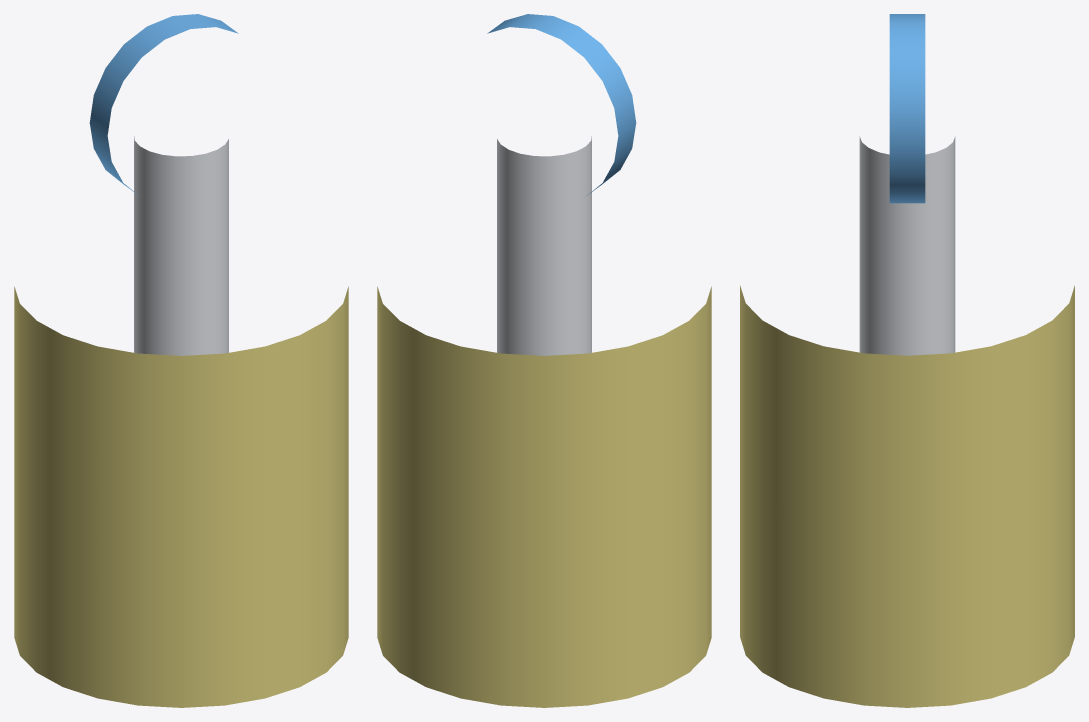
The model's file is california_bearing_ratio_cbr.glb.
3 views of the same model, side by side, from view 1: azimuth 30°, elevation 25°; view 2: azimuth 150°, elevation 25°; view 3: azimuth 270°, elevation 25° (orthographic).
Parts seen in each view (by area): view 1: CBRStandardMouldWithCollar, Standard50mmPenetrationPiston, ProvingRingDialGaugeAssembly; view 2: CBRStandardMouldWithCollar, Standard50mmPenetrationPiston, ProvingRingDialGaugeAssembly; view 3: CBRStandardMouldWithCollar, Standard50mmPenetrationPiston, ProvingRingDialGaugeAssembly.
Part boxes in pixels (x1=…): CBRStandardMouldWithCollar: x1=14, y1=286, x2=348, y2=707; Standard50mmPenetrationPiston: x1=134, y1=136, x2=228, y2=355; ProvingRingDialGaugeAssembly: x1=89, y1=14, x2=238, y2=195; CBRStandardMouldWithCollar: x1=377, y1=286, x2=711, y2=707; Standard50mmPenetrationPiston: x1=497, y1=136, x2=591, y2=355; ProvingRingDialGaugeAssembly: x1=487, y1=14, x2=636, y2=195; CBRStandardMouldWithCollar: x1=740, y1=285, x2=1074, y2=707; Standard50mmPenetrationPiston: x1=859, y1=136, x2=955, y2=355; ProvingRingDialGaugeAssembly: x1=889, y1=14, x2=925, y2=203.
Bounding box in the file's own units: 0.56 × 1.13 × 0.56.
